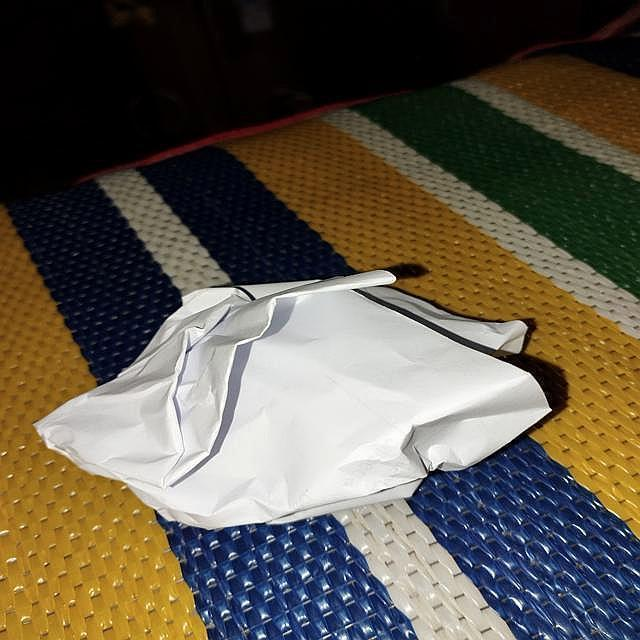Biodegradable: (37, 270, 551, 529)
